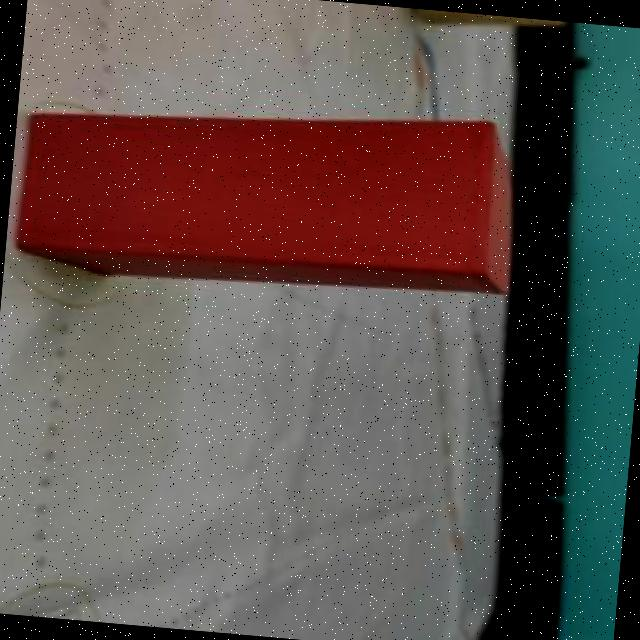redbox: (19, 84, 520, 300)
